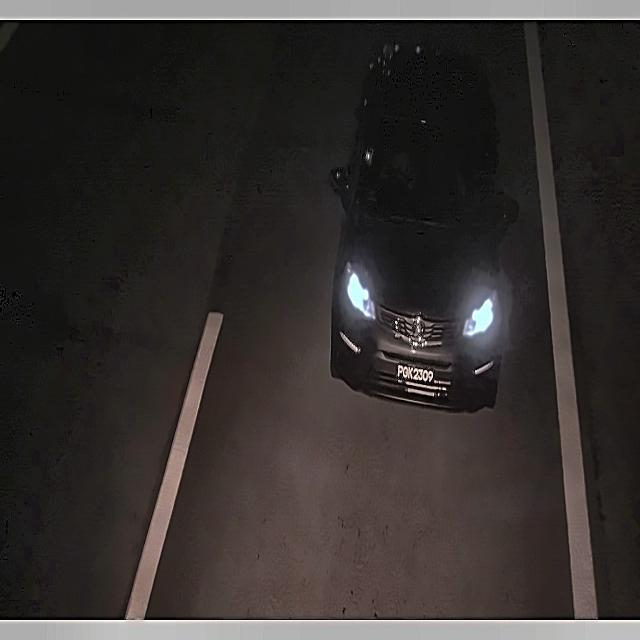car: (392, 357, 443, 390)
